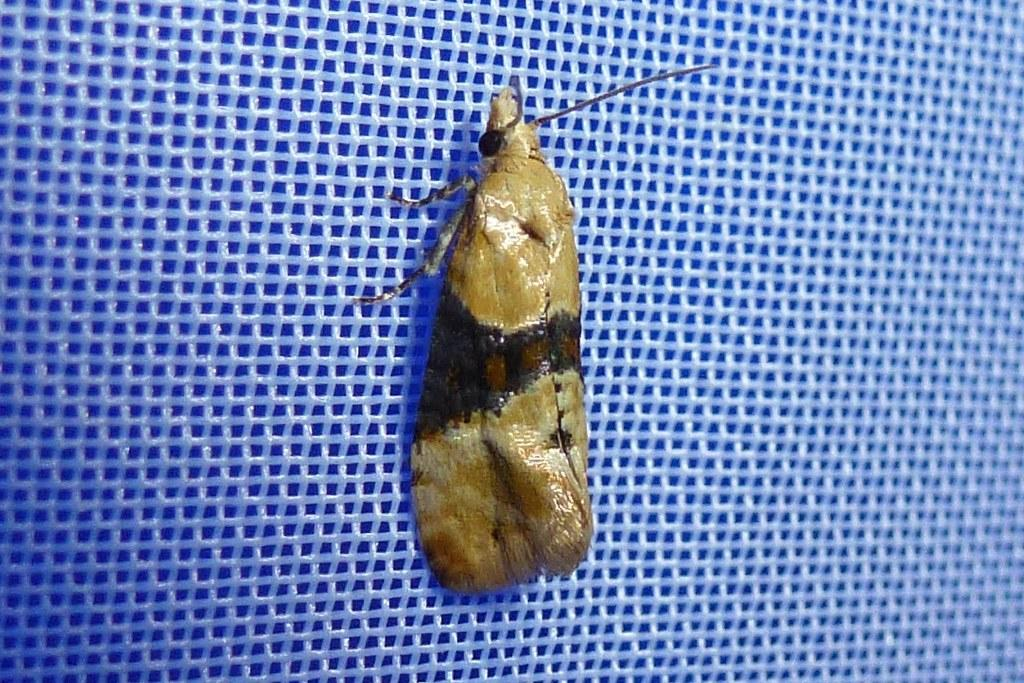Eupoecilia Ambiguella: (349, 59, 720, 597)
